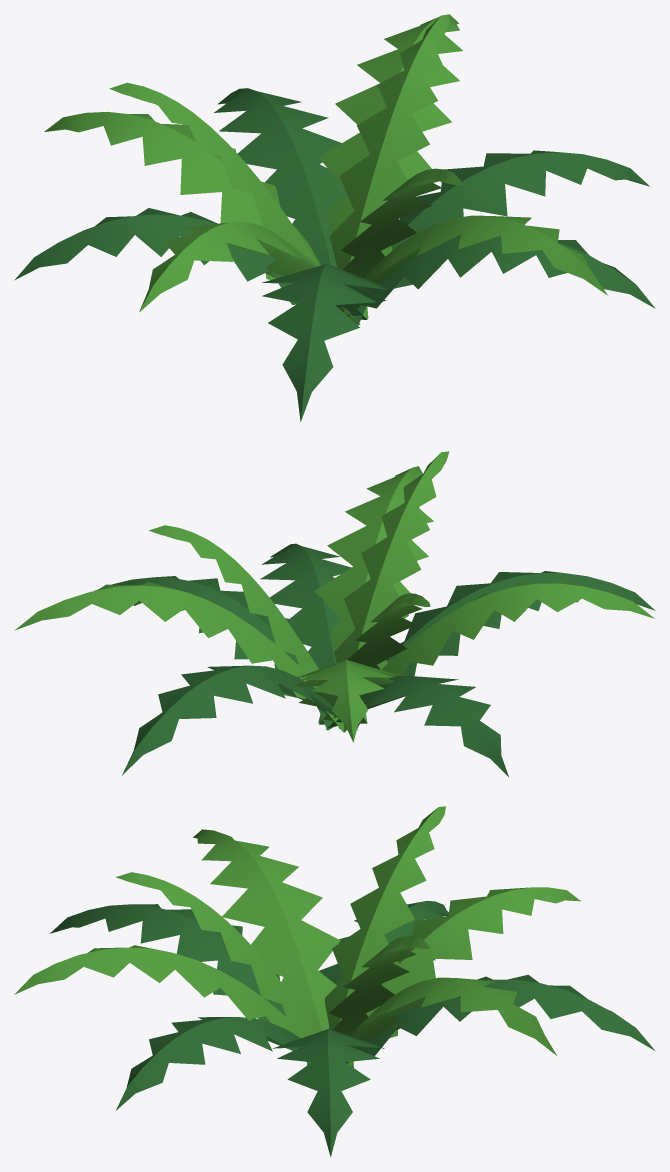
File: fern-pixor.glb
The picture shows the model from 3 angles, top to bottom: view 1: azimuth 30°, elevation 25°; view 2: azimuth 150°, elevation 25°; view 3: azimuth 270°, elevation 25°; orthographic projection. The views are drawn at different scales.
Parts seen in each view (by area): view 1: Fern fronds; view 2: Fern fronds; view 3: Fern fronds.
Part boxes in pixels (<box>): Fern fronds: <box>14,14,655,421</box>; Fern fronds: <box>14,451,655,776</box>; Fern fronds: <box>14,806,655,1157</box>.
Bounding box in the file's own units: 1.06 × 0.388 × 1.13.
